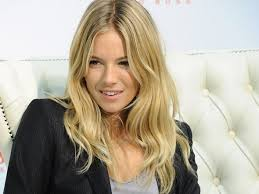middle_eastern_Female: (87, 18, 147, 112)
